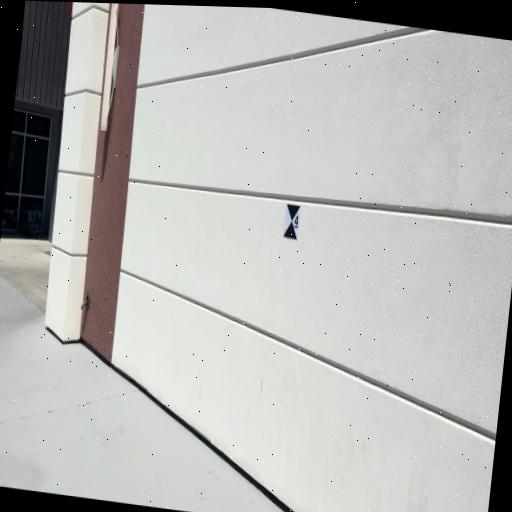target4: (282, 204, 301, 240)
